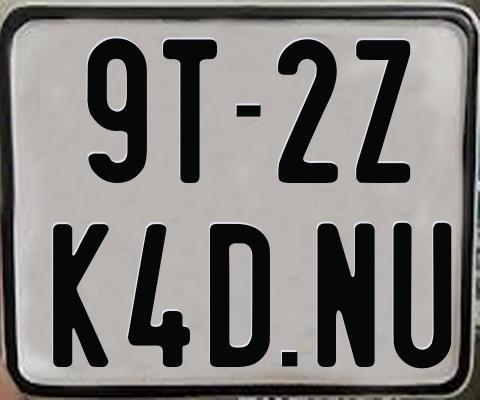2: (277, 37, 337, 181)
4: (127, 221, 192, 366)
9: (86, 38, 147, 188)
D: (207, 222, 268, 365)
K: (53, 224, 115, 372)
N: (314, 220, 375, 365)
T: (163, 38, 221, 185)
U: (392, 221, 452, 366)
Z: (353, 40, 411, 184)
